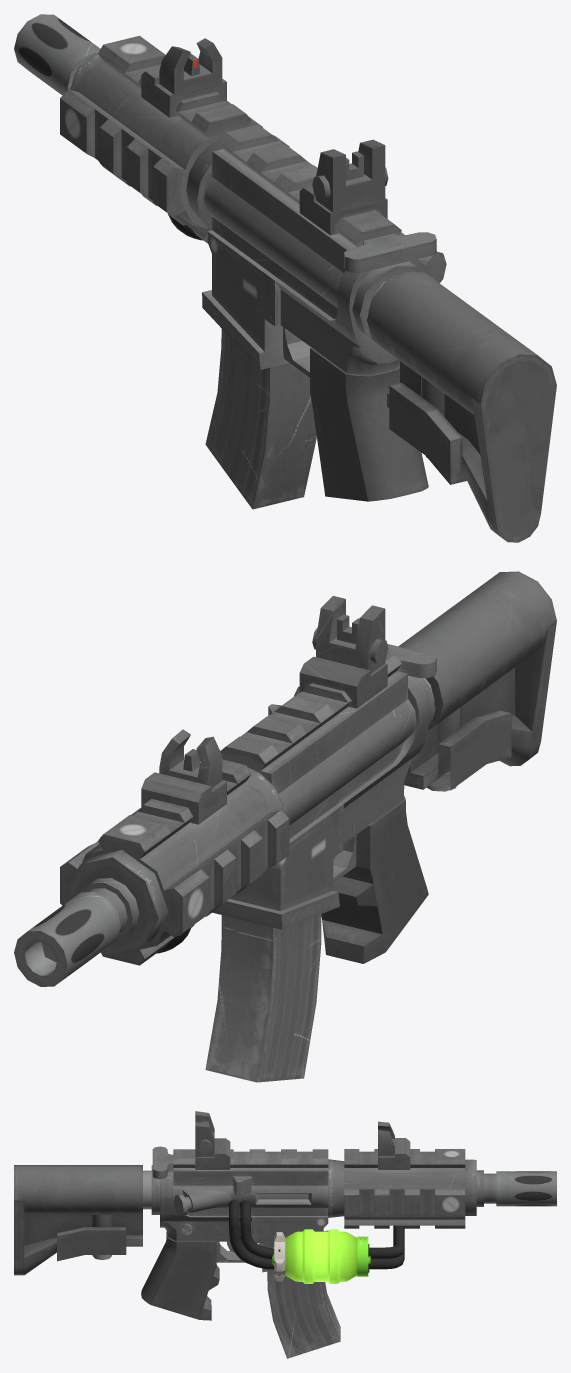
Rendered from IG_Gun_MF_Poison.fbx.
The picture shows the model from 3 angles, top to bottom: view 1: azimuth 30°, elevation 25°; view 2: azimuth 150°, elevation 25°; view 3: azimuth 270°, elevation 25°; orthographic projection. The views are drawn at different scales.
Visible parts, largest first — view 1: WPN_M4, HideIf_Stock, HideIf_Scope, HideIf_Muzzle; view 2: WPN_M4, HideIf_Stock, HideIf_Scope, HideIf_Muzzle; view 3: WPN_M4, HideIf_Stock, Poison, HideIf_Scope, HideIf_Muzzle, Pfb_Soda_Pipe_5, Pfb_Soda_Pipe_4.
Boxes of the visible parts, bbox=[...] form: WPN_M4: bbox=[60, 35, 446, 509]; HideIf_Stock: bbox=[352, 261, 556, 542]; HideIf_Scope: bbox=[141, 38, 388, 235]; HideIf_Muzzle: bbox=[14, 14, 100, 95]; WPN_M4: bbox=[60, 644, 436, 1082]; HideIf_Stock: bbox=[398, 571, 556, 791]; HideIf_Scope: bbox=[141, 596, 388, 824]; HideIf_Muzzle: bbox=[14, 892, 120, 986]; WPN_M4: bbox=[141, 1146, 496, 1358]; HideIf_Stock: bbox=[14, 1165, 159, 1275]; Poison: bbox=[272, 1229, 370, 1283]; HideIf_Scope: bbox=[195, 1111, 410, 1169]; HideIf_Muzzle: bbox=[496, 1171, 556, 1206]; Pfb_Soda_Pipe_5: bbox=[229, 1200, 274, 1269]; Pfb_Soda_Pipe_4: bbox=[368, 1225, 404, 1272].
Bounding box in the file's own units: 0.216 × 0.4897 × 1.03.
